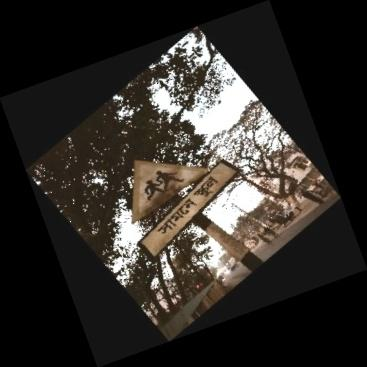School-in-front: (124, 157, 239, 260)
